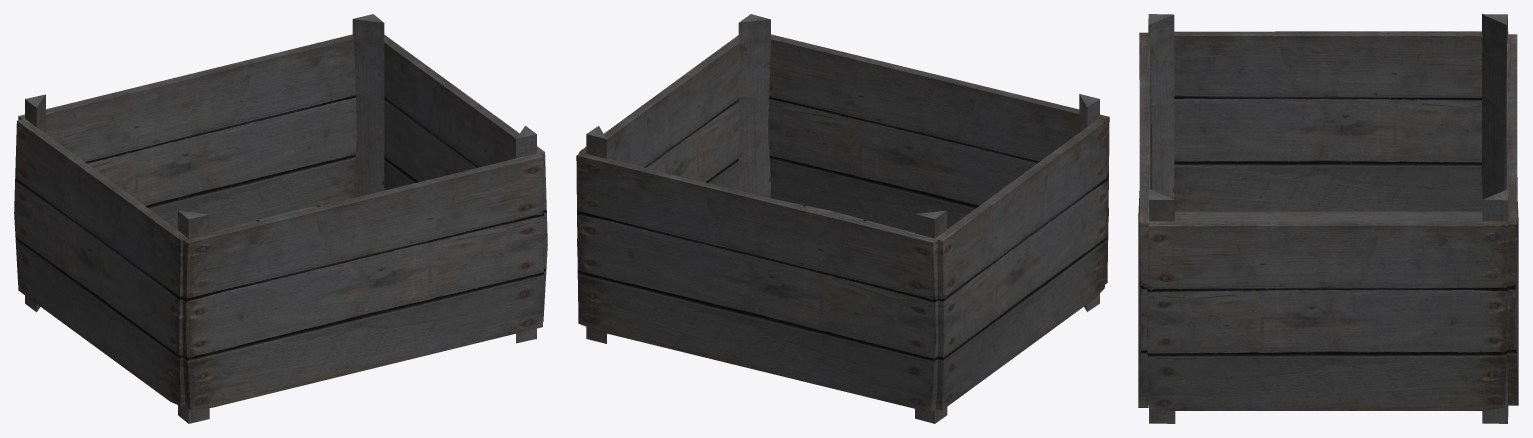
File: Crate02_LOD01.fbx
3 renders of one model, left to right at view 1: azimuth 30°, elevation 25°; view 2: azimuth 150°, elevation 25°; view 3: azimuth 270°, elevation 25°, orthographic. The views are drawn at different scales.
Parts seen in each view (by area): view 1: Mesh Object; view 2: Mesh Object; view 3: Mesh Object.
Boxes of the visible parts, x1,y1,x2,y2 form: Mesh Object: [14, 14, 547, 423]; Mesh Object: [576, 14, 1109, 423]; Mesh Object: [1138, 14, 1518, 423].
Bounding box in the file's own units: 0.6381 × 0.3394 × 0.5228.
